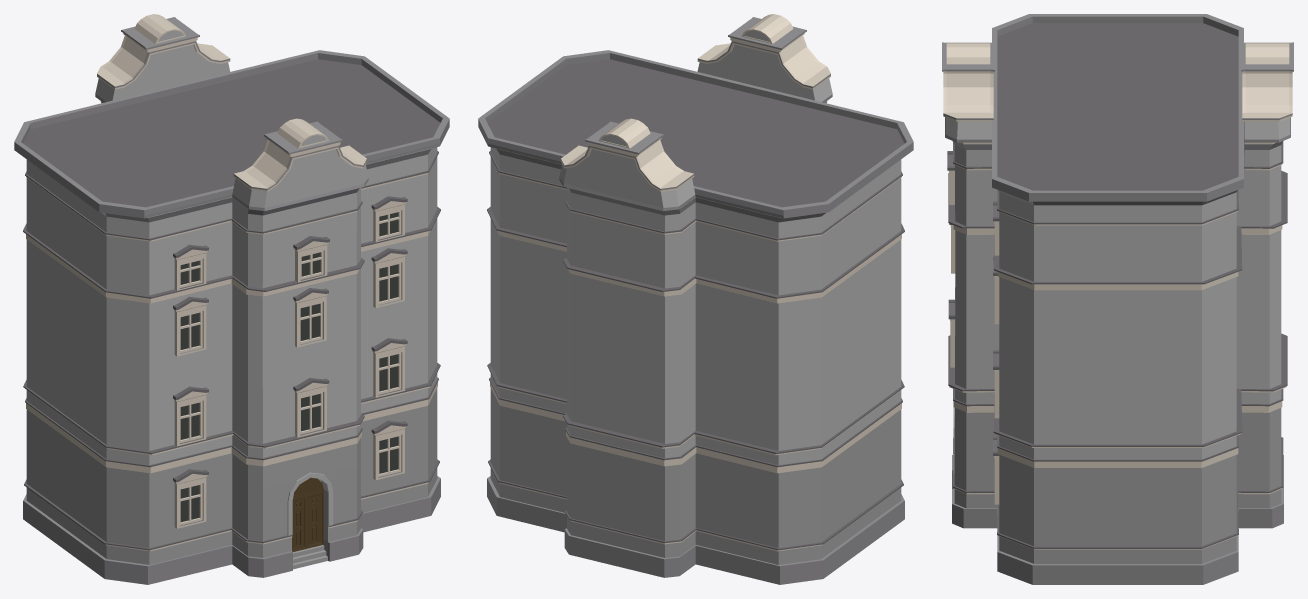
The model's file is b_quat.glb.
3 renders of one model, left to right at view 1: azimuth 30°, elevation 25°; view 2: azimuth 150°, elevation 25°; view 3: azimuth 270°, elevation 25°, orthographic. The views are drawn at different scales.
Visible parts, largest first — view 1: Building4; view 2: Building4; view 3: Building4.
Boxes of the visible parts, x1=… form: Building4: x1=14, y1=14, x2=449, y2=584; Building4: x1=478, y1=14, x2=913, y2=584; Building4: x1=942, y1=14, x2=1293, y2=584.
Size of the model in its own units: 4.64 by 5.49 by 3.86.
1 material, 1 textured.
